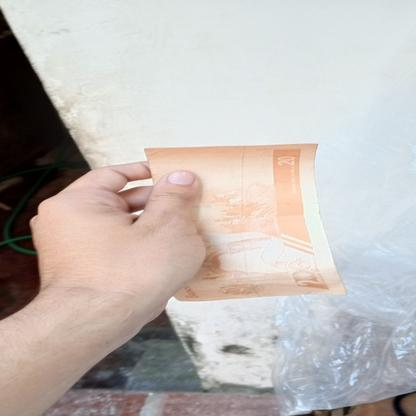twenty-back-vef: (143, 142, 348, 303)
